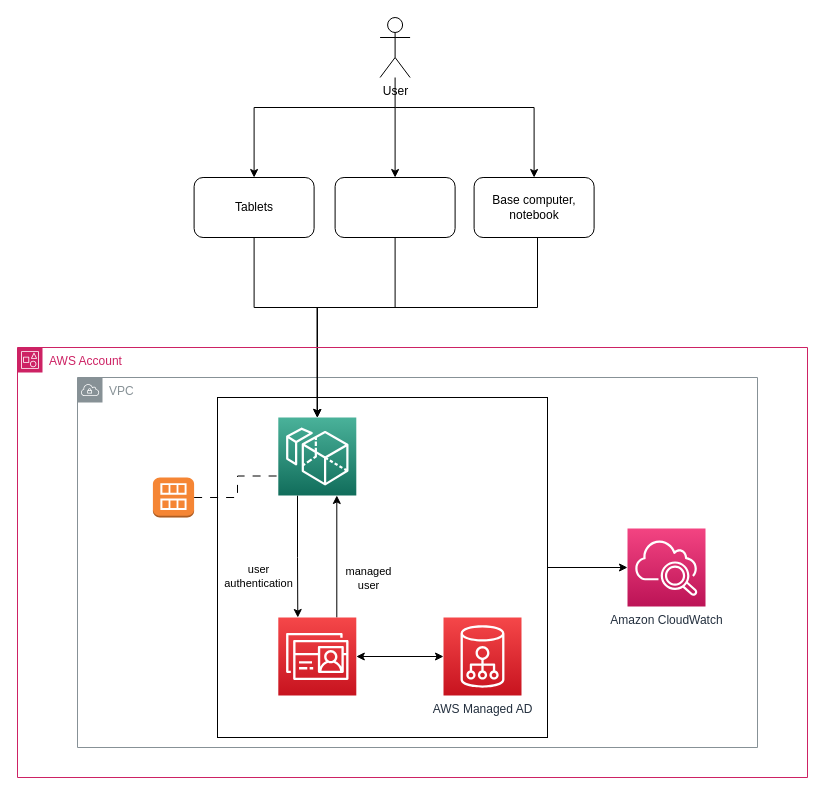
Some shapes in this 825 by 795 pixel diagram are drawn without their labels. Here are the shapes that lost their labels. From the top down, the centre of each, then its label:
At (394,207): "Fire TV Stick".
At (316,456): "AWS Workspaces".
At (173,497): "Windows 10 Bundle".
At (316,656): "Directory Service".
